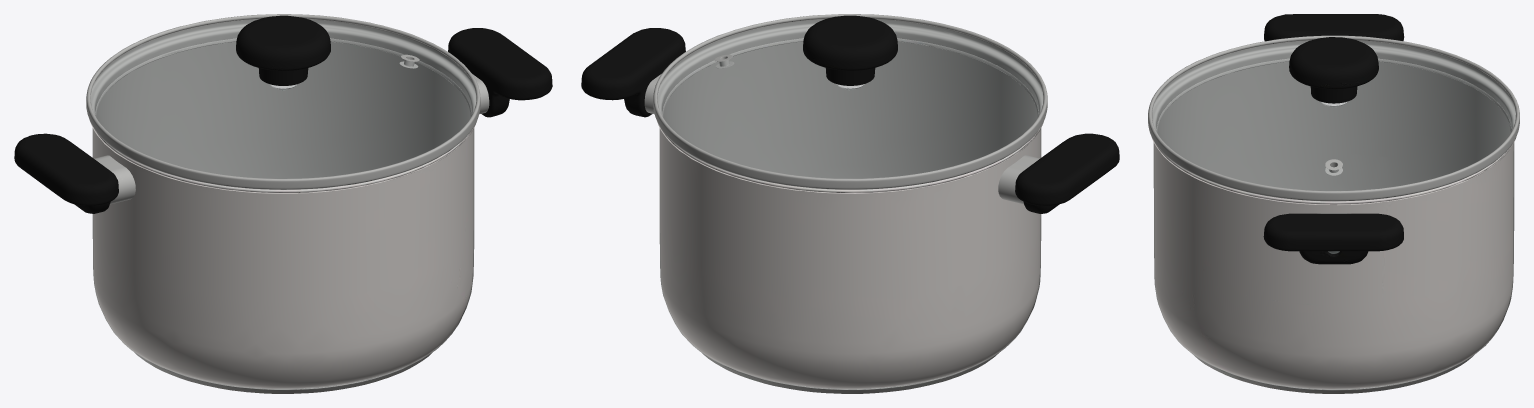
The model's file is middagsmat_garnek_z_pokrywka_80463713.glb.
3 views of the same model, side by side, from view 1: azimuth 30°, elevation 25°; view 2: azimuth 150°, elevation 25°; view 3: azimuth 270°, elevation 25° (orthographic). The views are drawn at different scales.
Visible parts, largest first — view 1: middagsmat_garnek_z_pokrywka_80463713; view 2: middagsmat_garnek_z_pokrywka_80463713; view 3: middagsmat_garnek_z_pokrywka_80463713.
Part boxes in pixels (left/top/right/bottom): middagsmat_garnek_z_pokrywka_80463713: left=14, top=14, right=552, bottom=393; middagsmat_garnek_z_pokrywka_80463713: left=581, top=14, right=1119, bottom=393; middagsmat_garnek_z_pokrywka_80463713: left=1148, top=14, right=1519, bottom=393.
Size of the model in its own units: 0.3234 by 0.1868 by 0.2272.
Materials: 3 (3 with a texture image).
